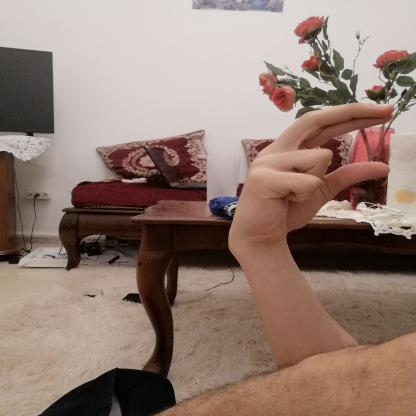DHELL: (210, 88, 408, 259)
